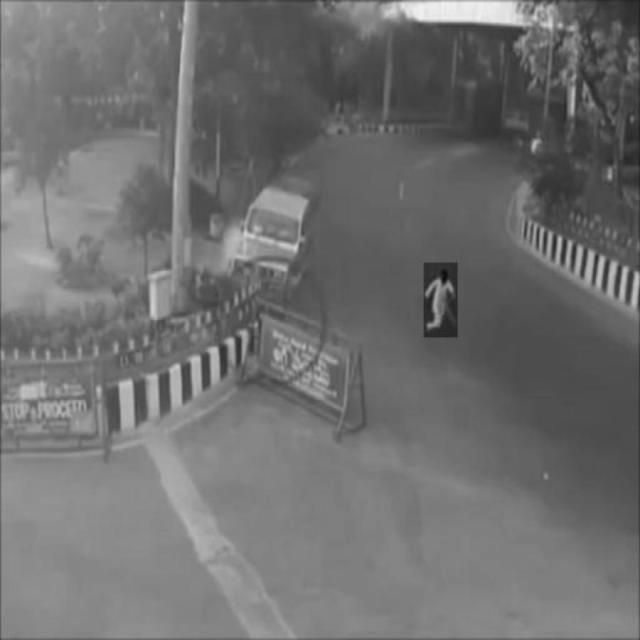accident: (223, 171, 321, 308)
person: (424, 264, 458, 338)
